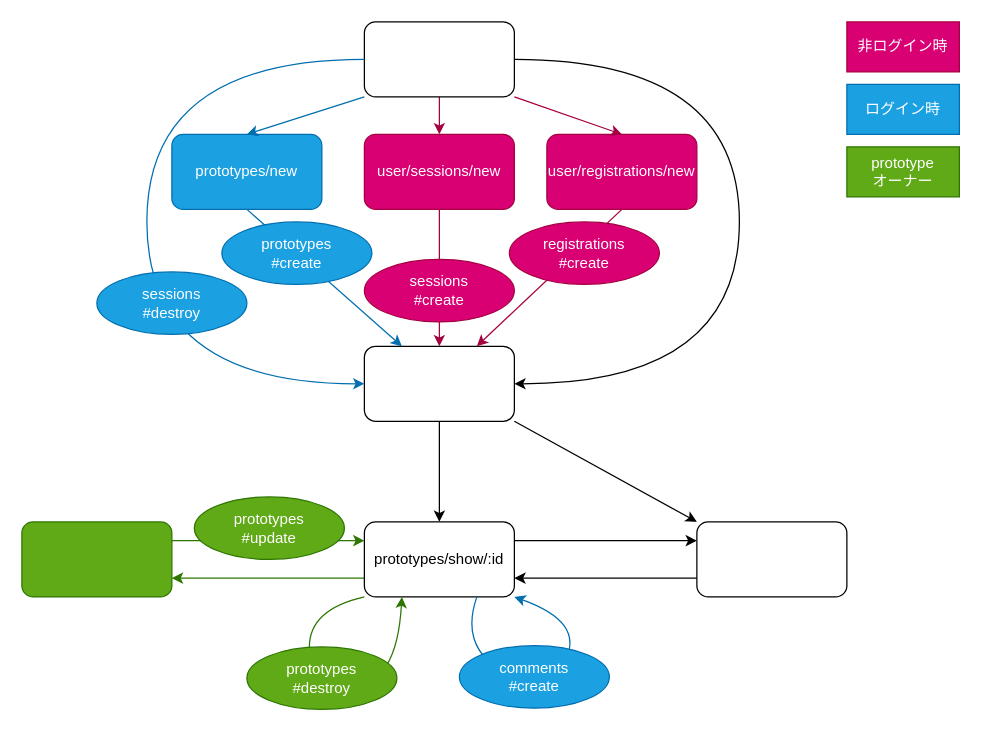
This 981x731 diagram has some shape labels left out. The box of each missing label's shape, as (x1, y1, x2, y2) in pixels:
application_header: (363, 21, 514, 97)
prototypes/edit/:id: (21, 521, 172, 597)
root prototypes/index: (363, 345, 514, 421)
users/show/:id: (696, 521, 847, 597)
